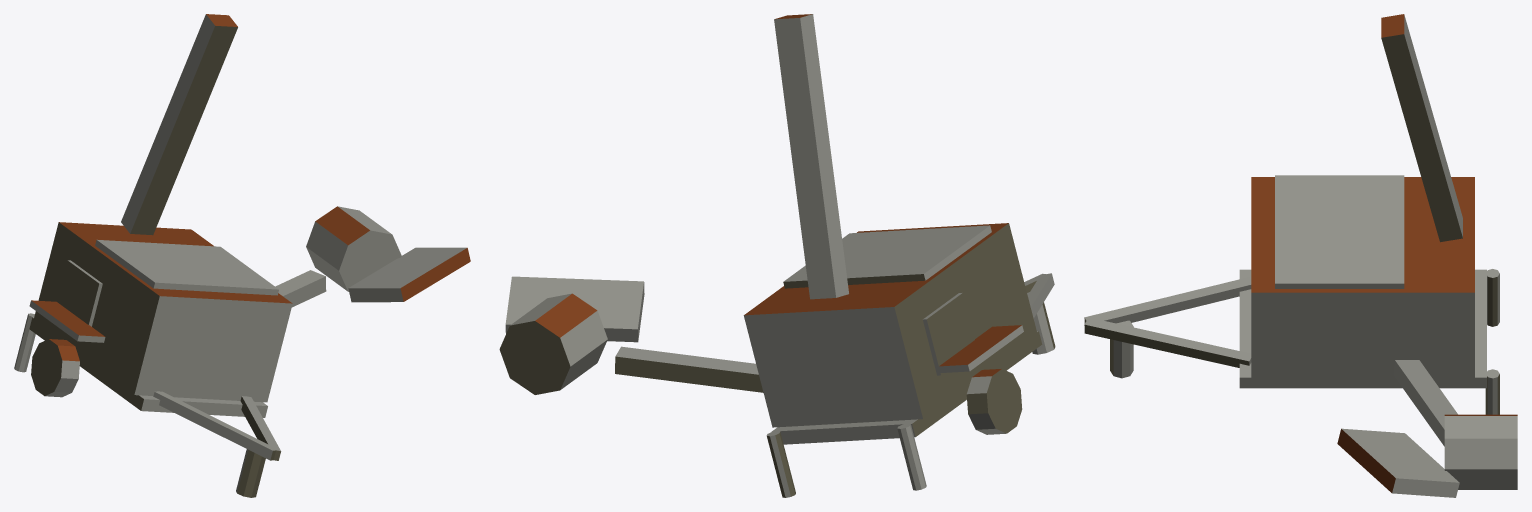
File: SM_Radar_v4_Destruido_LOD0.fbx
3 views of the same model, side by side, from view 1: azimuth 30°, elevation 25°; view 2: azimuth 150°, elevation 25°; view 3: azimuth 270°, elevation 25° (orthographic). The views are drawn at different scales.
Visible parts, largest first — view 1: SM_bloques.radar_v4_LOD0; view 2: SM_bloques.radar_v4_LOD0; view 3: SM_bloques.radar_v4_LOD0.
Part boxes in pixels (left/top/right/bottom): SM_bloques.radar_v4_LOD0: left=14, top=14, right=470, bottom=497; SM_bloques.radar_v4_LOD0: left=499, top=14, right=1055, bottom=497; SM_bloques.radar_v4_LOD0: left=1084, top=14, right=1517, bottom=497.
Size of the model in its own units: 4.73 by 4 by 3.68.
